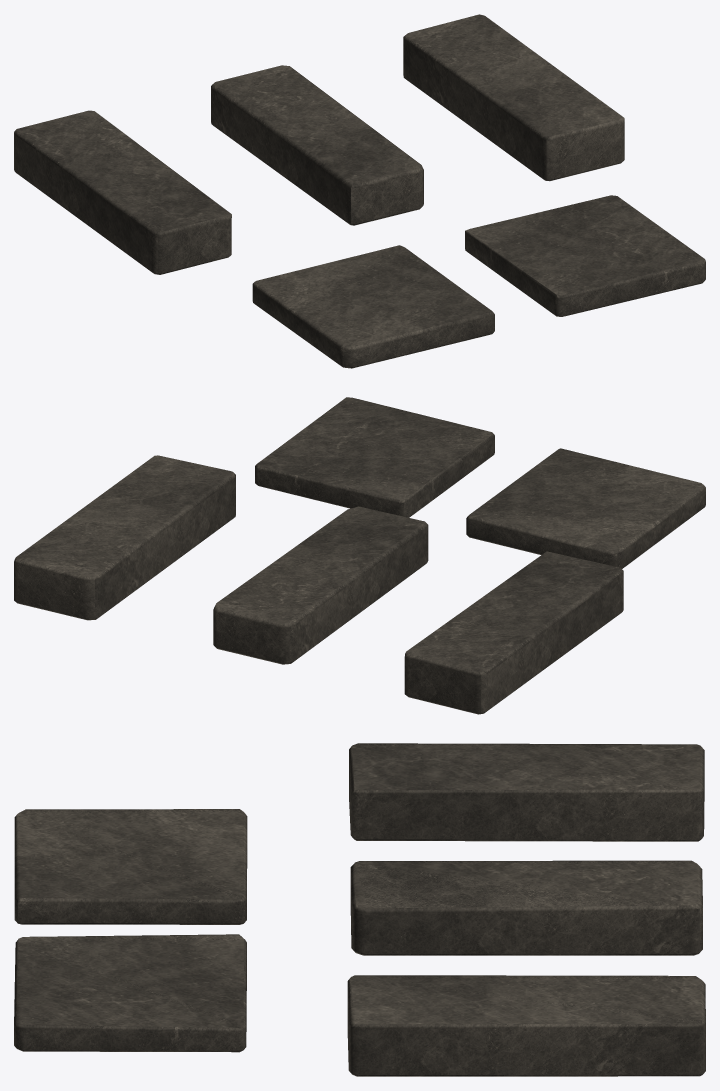
The model's file is gallery-paving.glb.
3 views of the same model, one above another, from view 1: azimuth 30°, elevation 25°; view 2: azimuth 150°, elevation 25°; view 3: azimuth 270°, elevation 25° (orthographic). The views are drawn at different scales.
Parts seen in each view (by area): view 1: curb-3, curb-1, curb-2, flagstone-1, flagstone-2; view 2: curb-3, curb-1, curb-2, flagstone-2, flagstone-1; view 3: curb-3, curb-1, curb-2, flagstone-2, flagstone-1.
Boxes of the visible parts, box(x1,y1,x2,y2) form: curb-3: box(403, 14, 624, 181); curb-1: box(14, 110, 231, 274); curb-2: box(211, 65, 423, 225); flagstone-1: box(252, 245, 494, 368); flagstone-2: box(465, 195, 705, 316); curb-3: box(14, 455, 235, 620); curb-1: box(404, 551, 623, 714); curb-2: box(213, 506, 428, 664); flagstone-2: box(255, 397, 494, 517); flagstone-1: box(466, 448, 705, 568); curb-3: box(347, 975, 705, 1076); curb-1: box(349, 743, 704, 841); curb-2: box(350, 860, 702, 955); flagstone-2: box(14, 934, 246, 1052); flagstone-1: box(14, 809, 247, 924).
Size of the model in its own units: 2.78 by 0.2877 by 2.88.
1 material, 1 textured.
